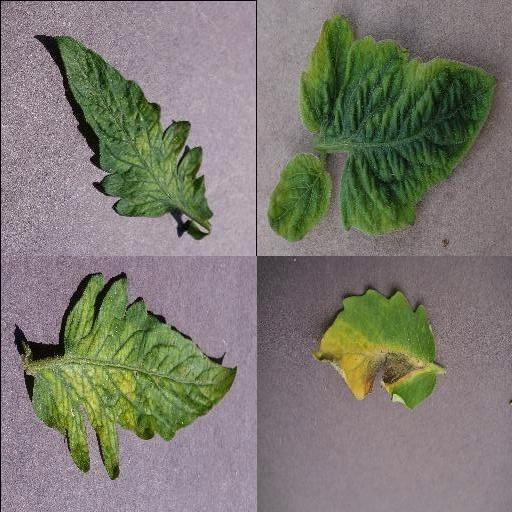Late Blight: (313, 286, 437, 410)
Mosaic Virus: (31, 274, 241, 482), (51, 33, 213, 223)
Yellow Leaf Curl Virus: (295, 15, 497, 237), (267, 151, 333, 243)
